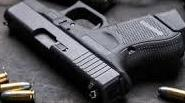gun: (1, 1, 185, 103)
